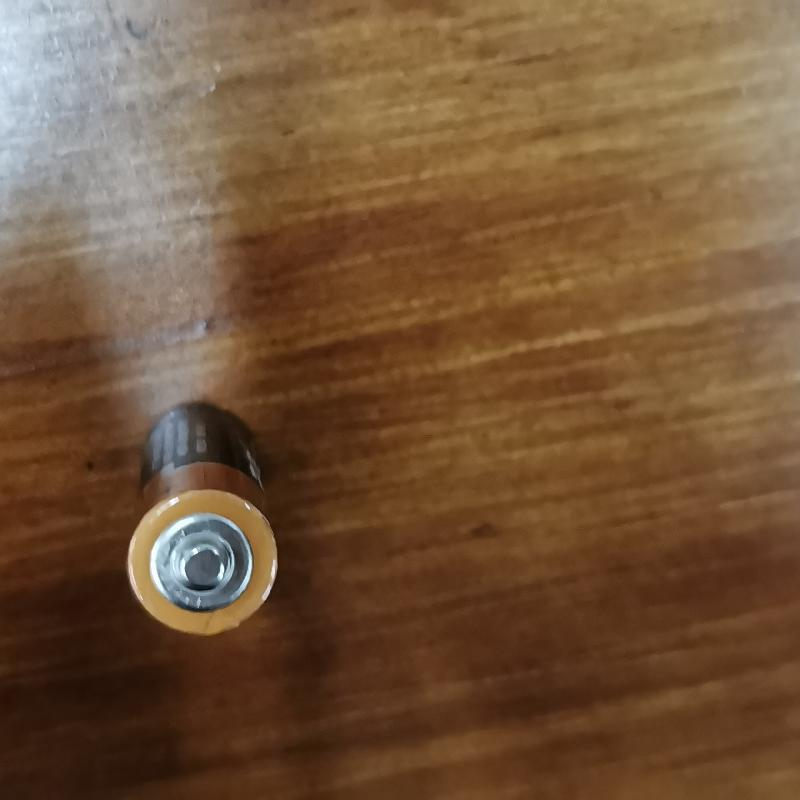battery: (121, 393, 284, 640)
